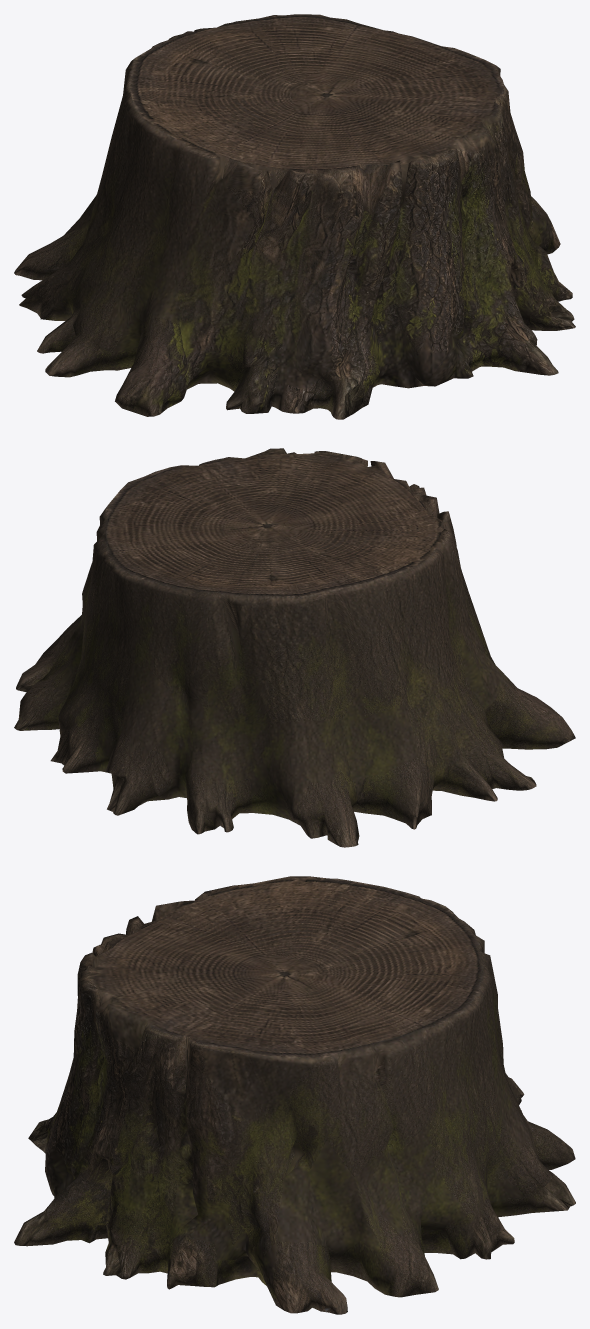
File: stump_a.glb
The picture shows the model from 3 angles, top to bottom: view 1: azimuth 30°, elevation 25°; view 2: azimuth 150°, elevation 25°; view 3: azimuth 270°, elevation 25°; orthographic projection. The views are drawn at different scales.
Size of the model in its own units: 0.9502 by 0.3838 by 0.8506.
1 material, 1 textured.
